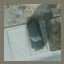car: (27, 21, 45, 50)
